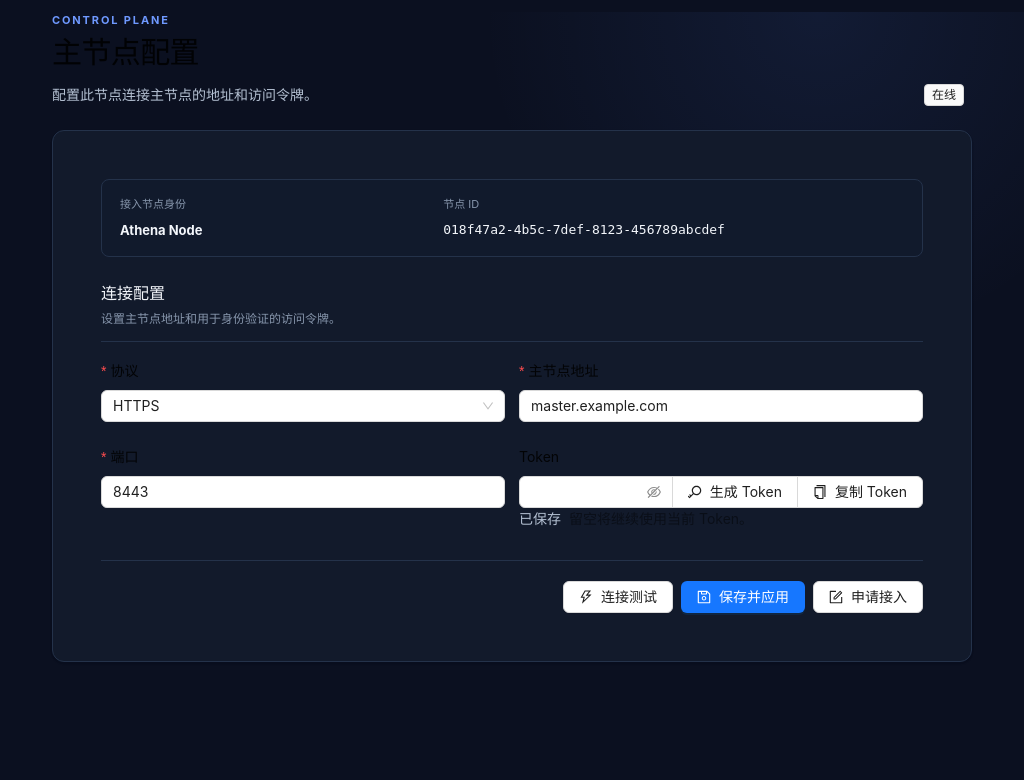
Test: requires saving changed settings before submitting a registration application
Step 1. Type "new-master.example.com" into the field labelled "主节点地址" → (721, 406), box [519,390,923,422]
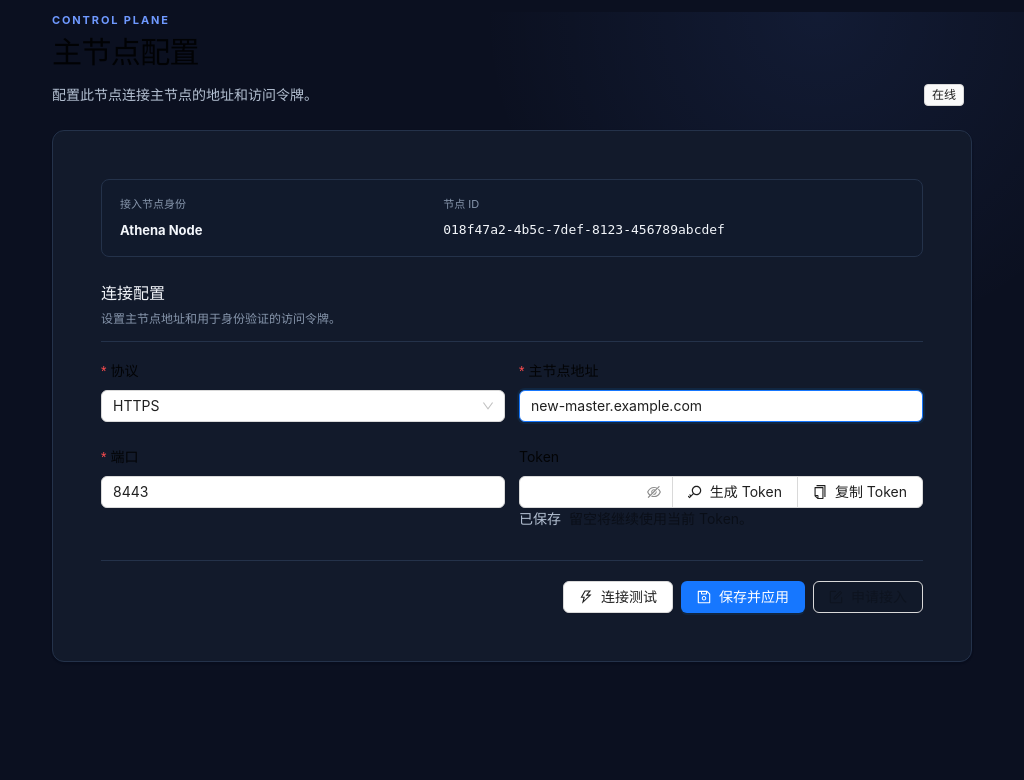
Check: the button "申请接入" is disabled, box [813,581,923,613]
Step 2. Click the button "保存并应用" → (743, 597), box [681,581,805,613]
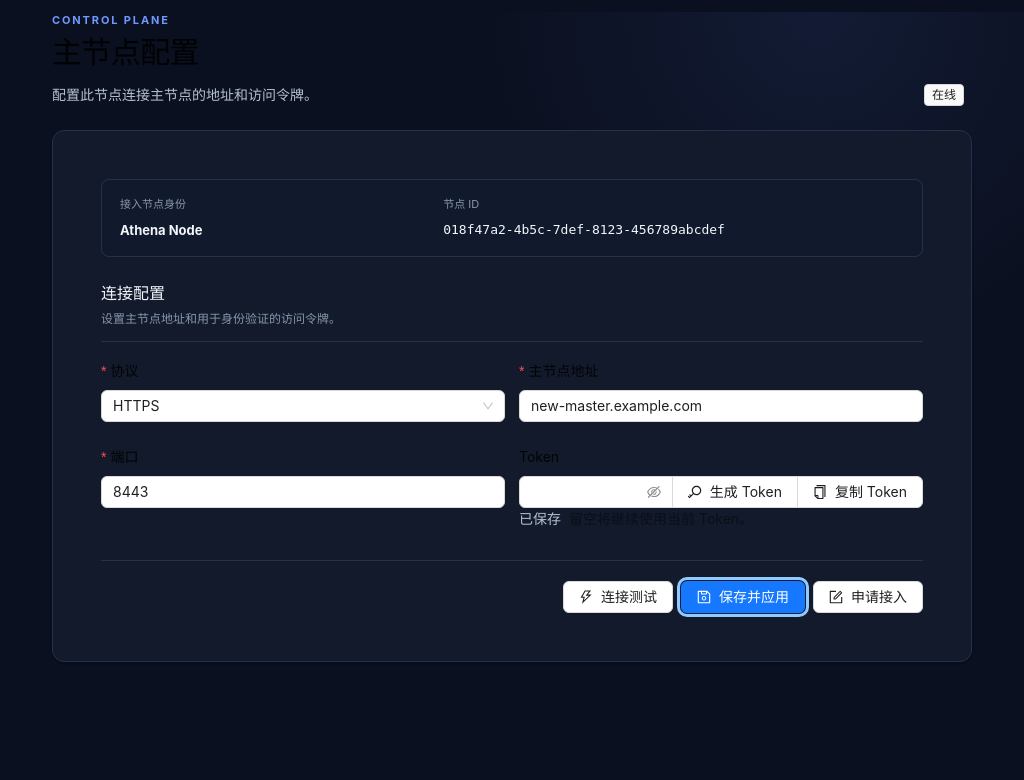
Check: the button "申请接入" is enabled
Step 3. Click the button "申请接入" → (868, 597), box [813,581,923,613]
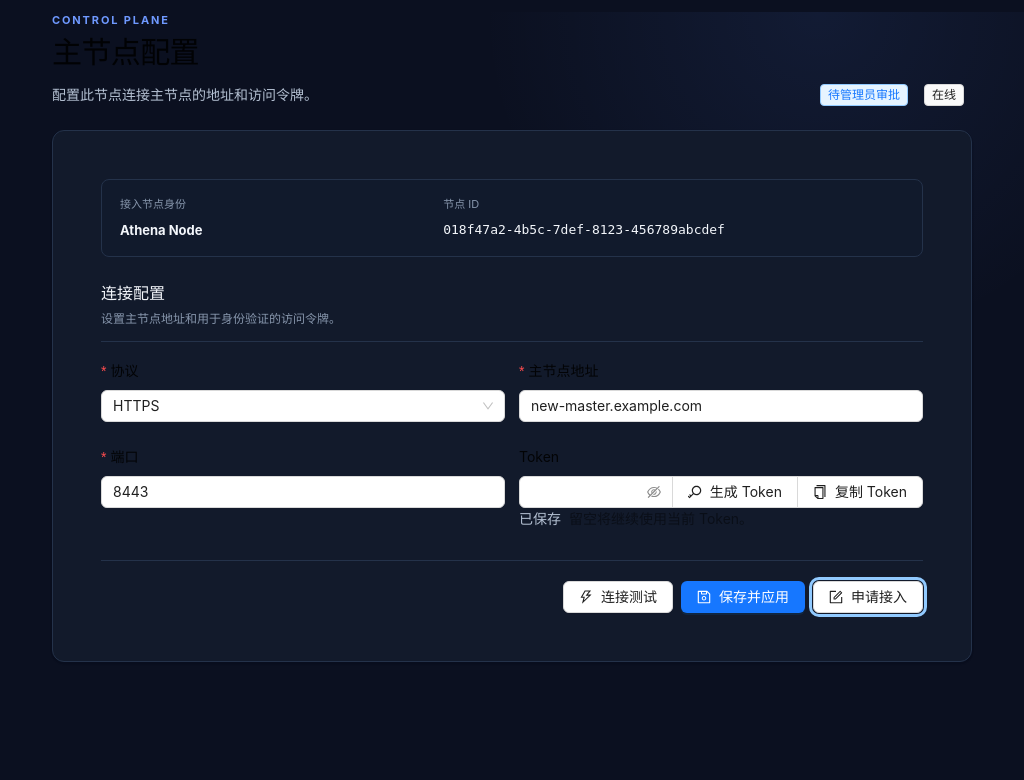
Check: the text "待管理员审批" is shown, box [820,84,908,106]
